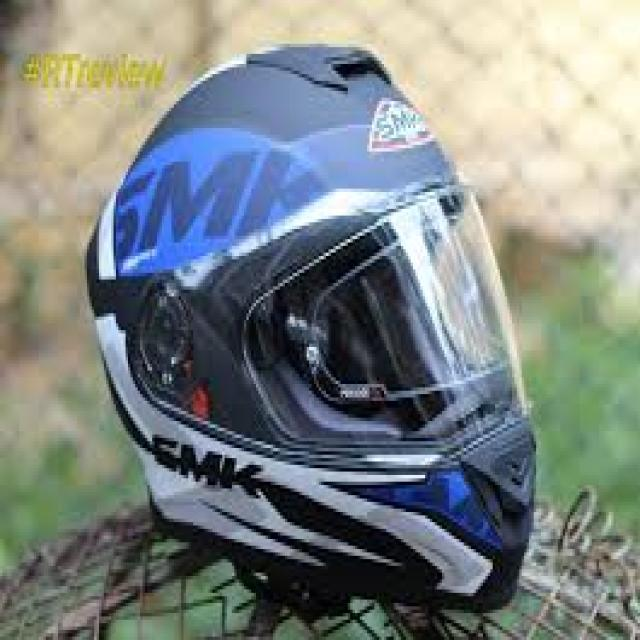Helmet: (86, 47, 535, 608)
